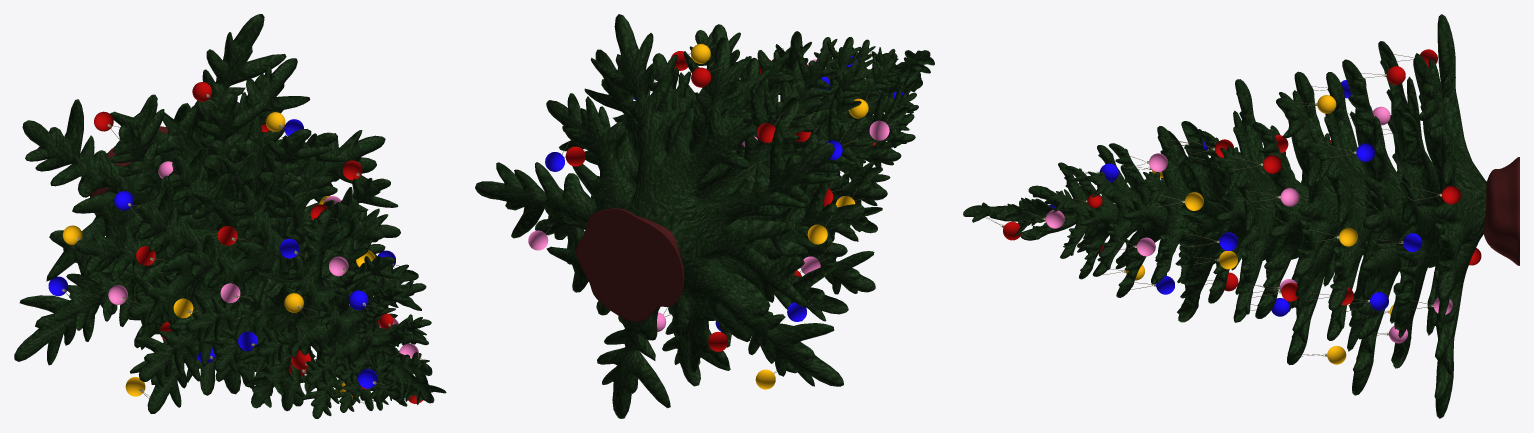
File: tree.obj
3 views of the same model, side by side, from view 1: azimuth 30°, elevation 25°; view 2: azimuth 150°, elevation 25°; view 3: azimuth 270°, elevation 25° (orthographic). The views are drawn at different scales.
Visible parts, largest first — view 1: Christmas_Tree02, Christmas_Tree05, Christmas_Tree03, Christmas_Tree19, Christmas_Tree07, Christmas_Tree08, Christmas_Tree06, Christmas_Tree04, Christmas_Tree09, Christmas_Tree12, Christmas_Tree10, Christmas_Tree17 (+6 smaller); view 2: Christmas_Tree02, Christmas_Tree19, cloth, Christmas_Tree03, Christmas_Tree05, Christmas_Tree07, Christmas_Tree08, Christmas_Tree06, Christmas_Tree09, Christmas_Tree10, Christmas_Tree04, Christmas_Tree17 (+4 smaller); view 3: Christmas_Tree02, Christmas_Tree03, Christmas_Tree19, Christmas_Tree05, Christmas_Tree06, Christmas_Tree07, Christmas_Tree08, Christmas_Tree12, Christmas_Tree09, Christmas_Tree04, cloth, Christmas_Tree11 (+6 smaller).
Part boxes in pixels (x1,y1,x2,y2): Christmas_Tree02: (14, 14, 376, 394); Christmas_Tree05: (134, 129, 400, 406); Christmas_Tree03: (74, 91, 385, 413); Christmas_Tree19: (54, 58, 319, 395); Christmas_Tree07: (185, 178, 414, 411); Christmas_Tree08: (241, 208, 418, 408); Christmas_Tree06: (128, 132, 377, 387); Christmas_Tree04: (277, 270, 426, 418); Christmas_Tree09: (257, 253, 400, 400); Christmas_Tree12: (187, 180, 376, 372); Christmas_Tree10: (306, 287, 428, 410); Christmas_Tree17: (321, 306, 431, 412); Christmas_Tree02: (475, 14, 843, 418); Christmas_Tree19: (535, 49, 848, 386); cloth: (576, 208, 684, 321); Christmas_Tree03: (546, 37, 864, 373); Christmas_Tree05: (632, 24, 875, 294); Christmas_Tree07: (688, 30, 887, 258); Christmas_Tree08: (771, 31, 907, 233); Christmas_Tree06: (591, 53, 847, 262); Christmas_Tree09: (773, 49, 901, 166); Christmas_Tree10: (814, 37, 915, 163); Christmas_Tree04: (772, 37, 914, 188); Christmas_Tree17: (852, 39, 916, 151); Christmas_Tree02: (1413, 14, 1486, 418); Christmas_Tree03: (1342, 59, 1407, 395); Christmas_Tree19: (1378, 41, 1439, 368); Christmas_Tree05: (1276, 71, 1340, 365); Christmas_Tree06: (1307, 72, 1368, 340); Christmas_Tree07: (1217, 79, 1281, 322); Christmas_Tree08: (1157, 121, 1226, 322); Christmas_Tree12: (1252, 122, 1308, 318); Christmas_Tree09: (1140, 126, 1190, 284); Christmas_Tree04: (1108, 143, 1167, 297); cloth: (1483, 157, 1519, 265); Christmas_Tree11: (1200, 131, 1246, 303).
Size of the model in its own units: 120 by 122 by 167.
8 materials, 1 textured.
